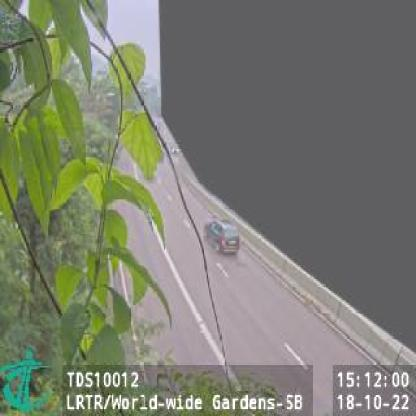Car: (204, 218, 240, 257)
